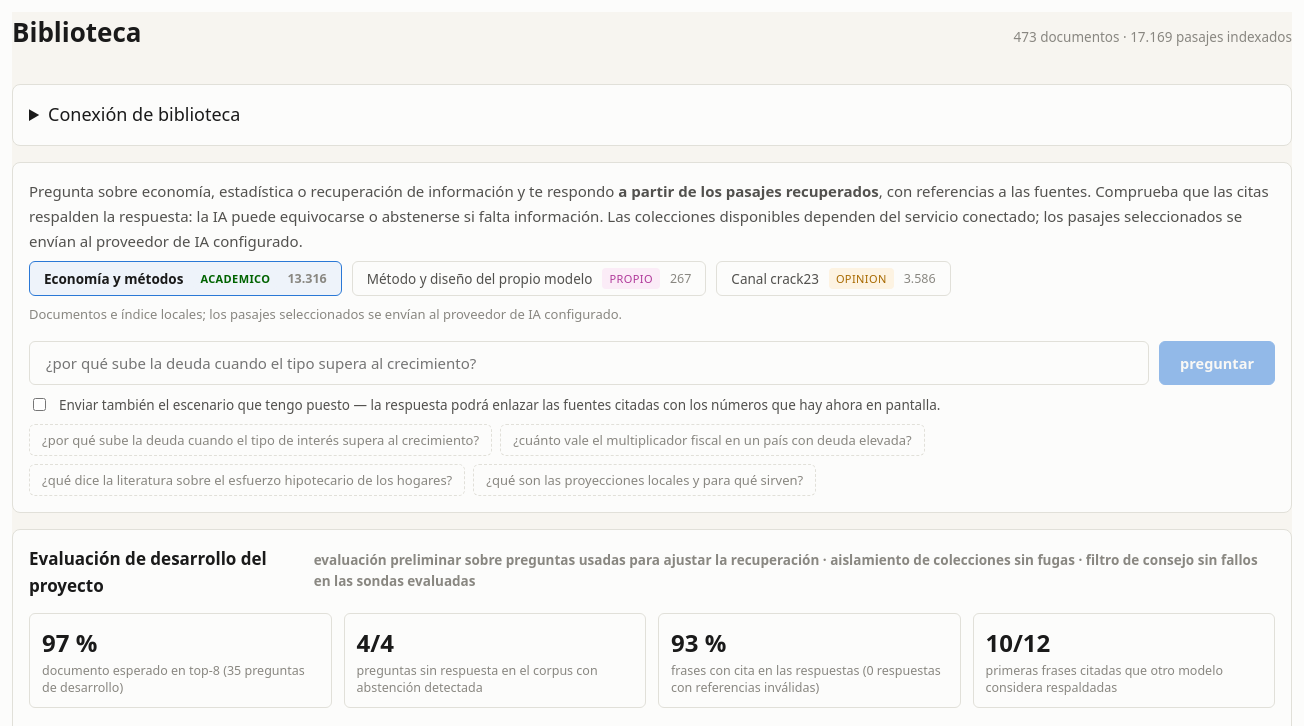
Test: Biblioteca — chat con citas › answers a question and cites the passage it used
The image size is (1304, 726).
Expected: the text "Economía y métodos" is shown, [44, 268, 183, 289]
Type "por qué sube la deuda" into the field named "Pregunta" at (589, 363), box [29, 341, 1149, 385]
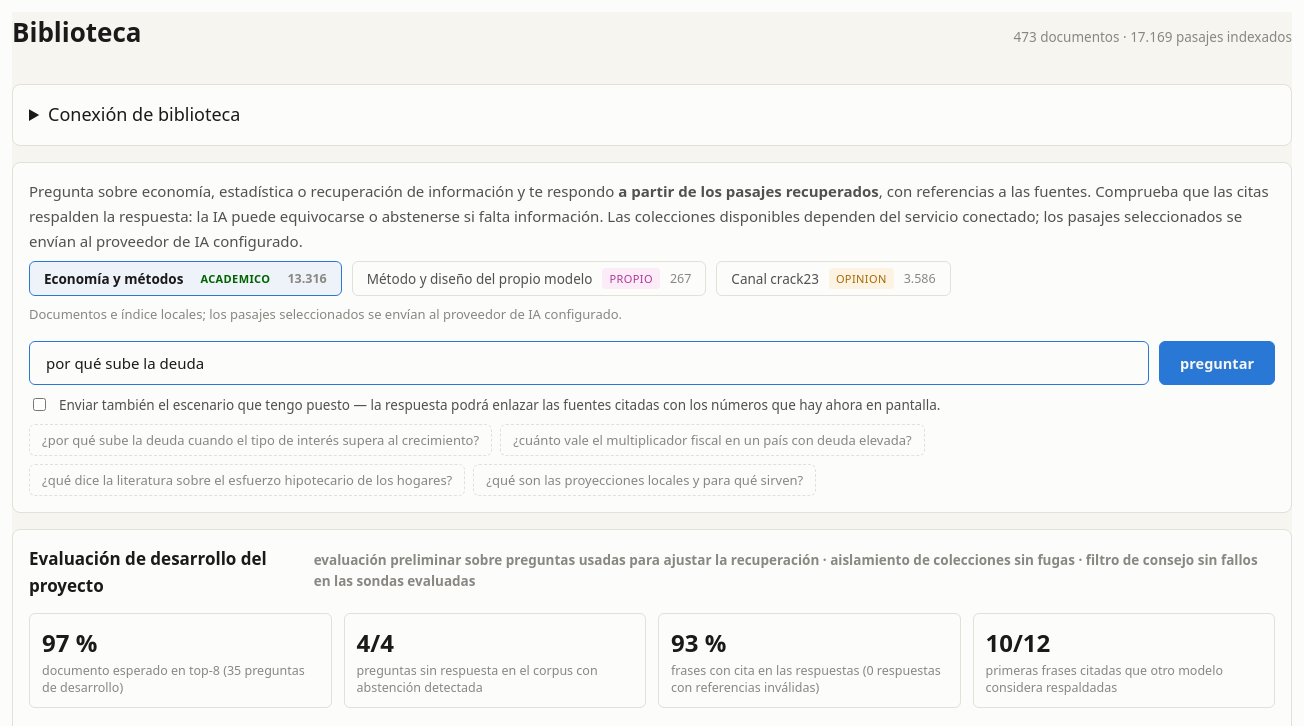
Click the button "preguntar" at (1217, 363), box [1159, 341, 1275, 385]
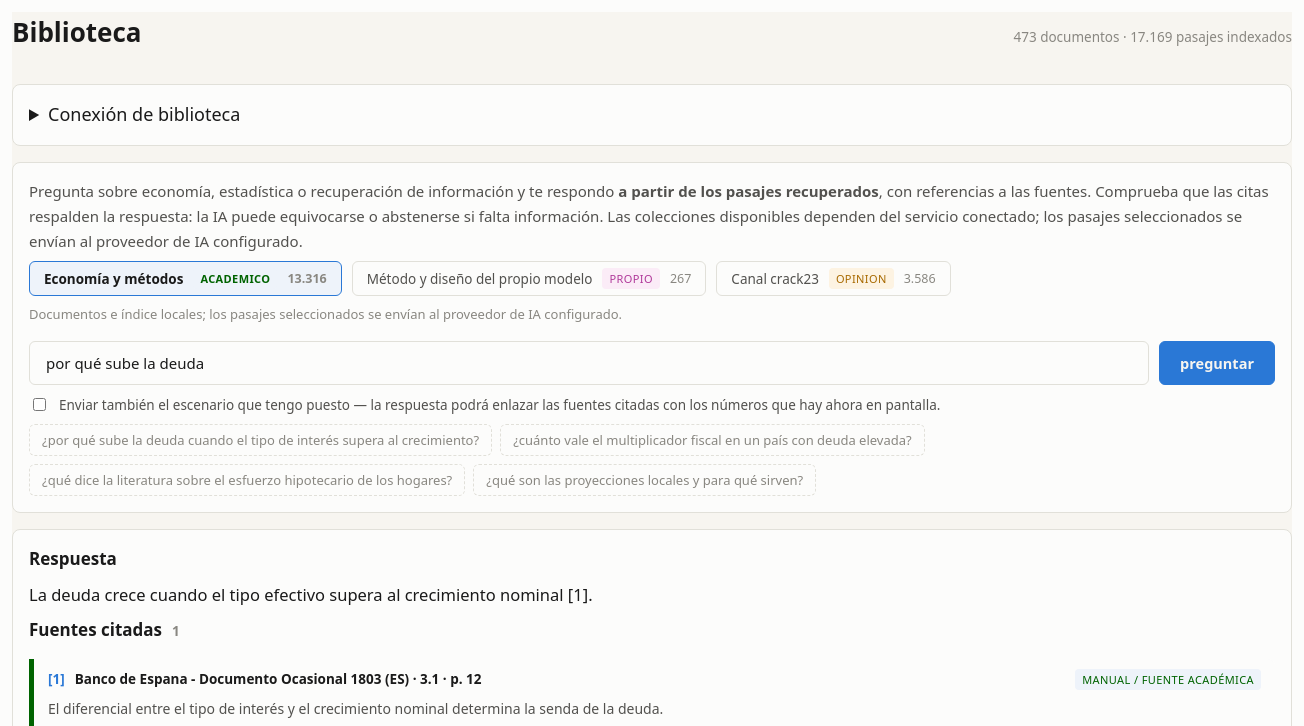
Now the text "La deuda crece cuando" is shown, box [29, 583, 593, 606]
Now the text "Documento Ocasional 1803" is shown, box [75, 670, 482, 688]
Now the text "[1]" is shown, box [48, 669, 65, 690]
